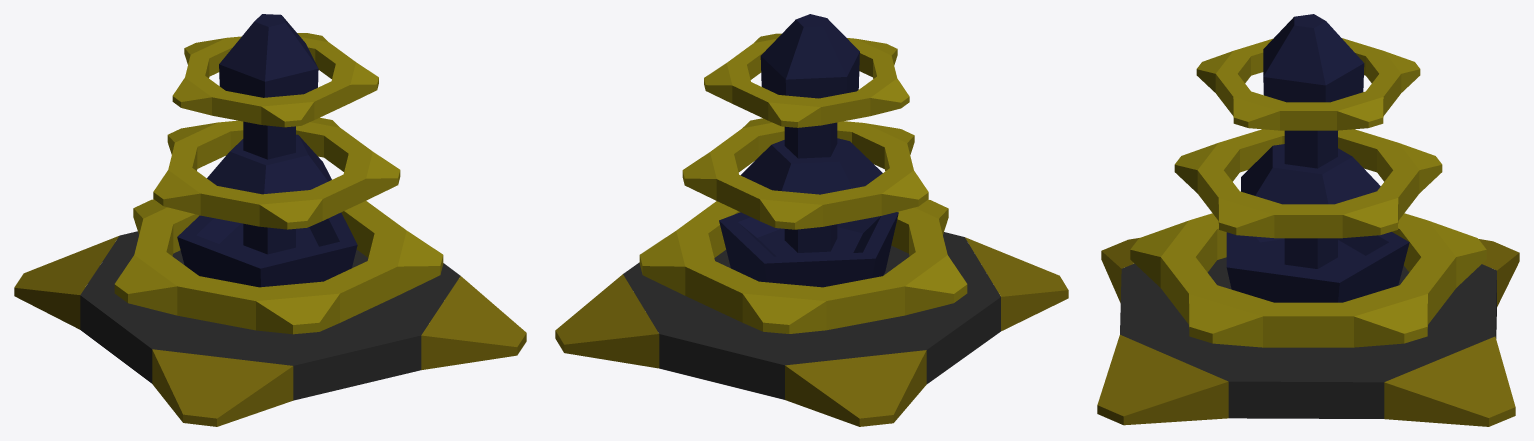
The model's file is turret_emp.glb.
3 views of the same model, side by side, from view 1: azimuth 30°, elevation 25°; view 2: azimuth 150°, elevation 25°; view 3: azimuth 270°, elevation 25° (orthographic). The views are drawn at different scales.
Parts seen in each view (by area): view 1: BaseEMPTurret1, Ring3EMPTurret1, MiddleEMPTurret1, Ring1EMPTurret1; view 2: BaseEMPTurret1, MiddleEMPTurret1, Ring3EMPTurret1, Ring1EMPTurret1; view 3: BaseEMPTurret1, Ring3EMPTurret1, MiddleEMPTurret1, Ring1EMPTurret1.
Part boxes in pixels (bbox=[...]): BaseEMPTurret1: bbox=[14, 231, 526, 426]; Ring3EMPTurret1: bbox=[153, 33, 400, 229]; MiddleEMPTurret1: bbox=[177, 14, 357, 287]; Ring1EMPTurret1: bbox=[114, 199, 443, 334]; BaseEMPTurret1: bbox=[555, 232, 1068, 426]; MiddleEMPTurret1: bbox=[719, 14, 898, 287]; Ring3EMPTurret1: bbox=[682, 33, 928, 229]; Ring1EMPTurret1: bbox=[639, 199, 967, 333]; BaseEMPTurret1: bbox=[1097, 238, 1519, 426]; Ring3EMPTurret1: bbox=[1174, 38, 1442, 238]; MiddleEMPTurret1: bbox=[1226, 14, 1409, 302]; Ring1EMPTurret1: bbox=[1130, 213, 1486, 347].
Bounding box in the file's own units: 3.55 × 2.95 × 3.55.
